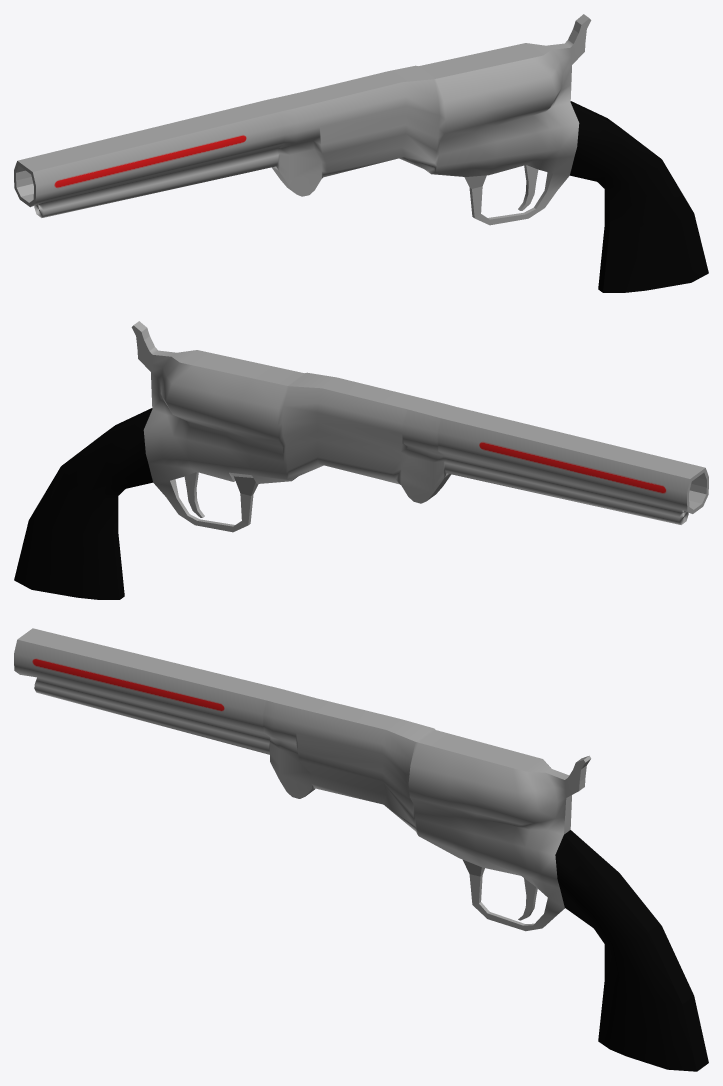
Rendered from enemyGun.fbx.
The picture shows the model from 3 angles, top to bottom: view 1: azimuth 30°, elevation 25°; view 2: azimuth 150°, elevation 25°; view 3: azimuth 330°, elevation 25°; orthographic projection.
Visible parts, largest first — view 1: pCube1; view 2: pCube1; view 3: pCube1.
Boxes of the visible parts, left/top/right/bottom form: pCube1: left=14, top=14, right=708, bottom=292; pCube1: left=14, top=321, right=708, bottom=599; pCube1: left=14, top=628, right=708, bottom=1071.
Bounding box in the file's own units: 52.84 × 20.95 × 5.01.
1 material, 1 textured.
